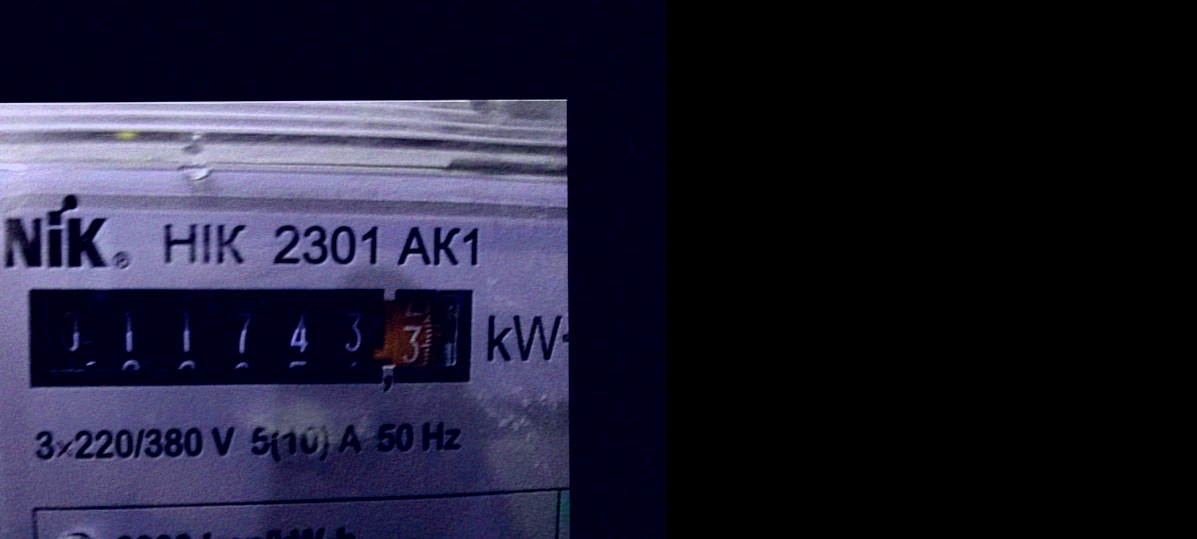0: (56, 307, 85, 354)
1: (176, 307, 197, 355), (121, 307, 138, 356)
3: (340, 308, 368, 355), (400, 321, 424, 366)
4: (286, 307, 314, 355)
7: (232, 309, 256, 357)
screen: (13, 276, 480, 397)
